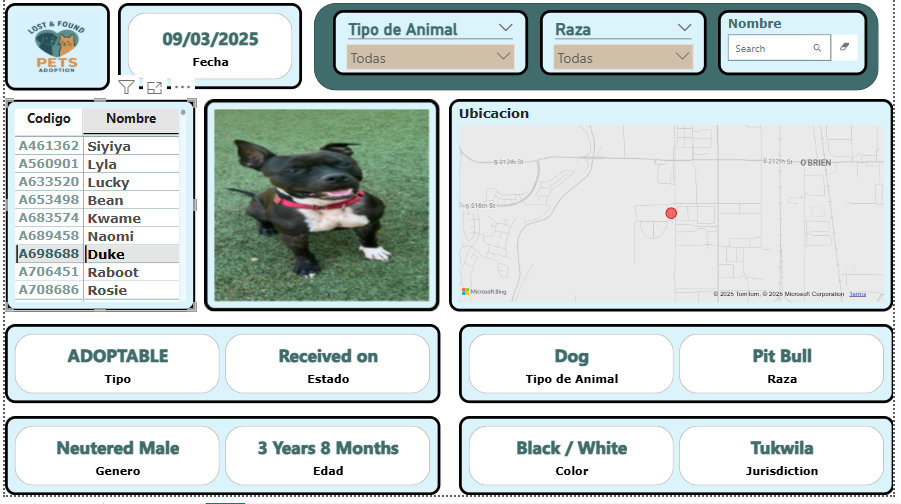

Layout of this report page (visuals, bound fields, positions):
{"tool":"powerbi","page":{"name":"Perfil","canvas":[1280,720],"ordinal":1},"visuals":[{"type":"shape","box":[445.1,11.8,813,126],"z":0},{"type":"image","box":[0,11.8,151.2,126],"z":1000},{"type":"pivotTable","fields":{"Rows":["Lost_found_adoptable_pets.ID"],"Values":["Min(Lost_found_adoptable_pets.Nombre)"]},"box":[0,149.5,275.5,305.7],"z":2000},{"type":"slicer","fields":{"Values":["Lost_found_adoptable_pets.Tipo de Animal"]},"box":[472,21.8,280.5,94.1],"z":3000},{"type":"slicer","fields":{"Values":["Lost_found_adoptable_pets.Raza"]},"box":[771,21.8,240.2,94.1],"z":4000},{"type":"simpleImageEBC4593F96F1425FB3D84C5BF02B5075","fields":{"imageURL":["Lost_found_adoptable_pets.Foto"]},"box":[287.2,149.5,339.3,305.7],"z":5000},{"type":"cardVisual","fields":{"Data":["Min(Lost_found_adoptable_pets.Genero)","Min(Lost_found_adoptable_pets.Edad)"]},"box":[0,606.4,626.6,114.2],"z":6000},{"type":"cardVisual","fields":{"Data":["Min(Lost_found_adoptable_pets.Tipo)","Min(Lost_found_adoptable_pets.Estado)"]},"box":[0,473.7,626.6,114.2],"z":7000},{"type":"map","title":"Ubicacion","fields":{"X":["Lost_found_adoptable_pets.obfuscated_longitude"],"Y":["Lost_found_adoptable_pets.obfuscated_latitude"]},"box":[640,149.5,640,305.7],"z":8000},{"type":"cardVisual","fields":{"Data":["Min(Lost_found_adoptable_pets.Tipo de Animal)","Min(Lost_found_adoptable_pets.Raza)"]},"box":[653.4,473.7,626.6,114.2],"z":9000},{"type":"cardVisual","fields":{"Data":["Min(Lost_found_adoptable_pets.Animal_Color)","Min(Lost_found_adoptable_pets.jurisdiction)"]},"box":[653.4,606.4,626.6,114.2],"z":10000},{"type":"cardVisual","fields":{"Data":["Min(Lost_found_adoptable_pets.Fecha)"]},"box":[162.9,11.8,265.4,124.3],"z":11000},{"type":"textFilter25A4896A83E0487089E2B90C9AE57C8A","fields":{"field":["Lost_found_adoptable_pets.Nombre"]},"box":[1026.4,21.8,215,94.1],"z":12001}]}

Visuals, with their boxes in screenshot pixels (x1, y1, x2, y2), scaled from the page's 1280x720 canvas onto the 901x504 screenshot:
shape: BBox(313, 8, 886, 96)
image: BBox(0, 8, 106, 96)
pivotTable - Lost_found_adoptable_pets.ID x Min(Lost_found_adoptable_pets.Nombre): BBox(0, 105, 194, 319)
slicer - Lost_found_adoptable_pets.Tipo de Animal: BBox(332, 15, 530, 81)
slicer - Lost_found_adoptable_pets.Raza: BBox(543, 15, 712, 81)
simpleImageEBC4593F96F1425FB3D84C5BF02B5075 - Lost_found_adoptable_pets.Foto: BBox(202, 105, 441, 319)
cardVisual - Min(Lost_found_adoptable_pets.Genero) x Min(Lost_found_adoptable_pets.Edad): BBox(0, 424, 441, 503)
cardVisual - Min(Lost_found_adoptable_pets.Tipo) x Min(Lost_found_adoptable_pets.Estado): BBox(0, 332, 441, 412)
"Ubicacion" map: BBox(450, 105, 900, 319)
cardVisual - Min(Lost_found_adoptable_pets.Tipo de Animal) x Min(Lost_found_adoptable_pets.Raza): BBox(460, 332, 900, 412)
cardVisual - Min(Lost_found_adoptable_pets.Animal_Color) x Min(Lost_found_adoptable_pets.jurisdiction): BBox(460, 424, 900, 503)
cardVisual - Min(Lost_found_adoptable_pets.Fecha): BBox(115, 8, 301, 95)
textFilter25A4896A83E0487089E2B90C9AE57C8A - Lost_found_adoptable_pets.Nombre: BBox(722, 15, 874, 81)
